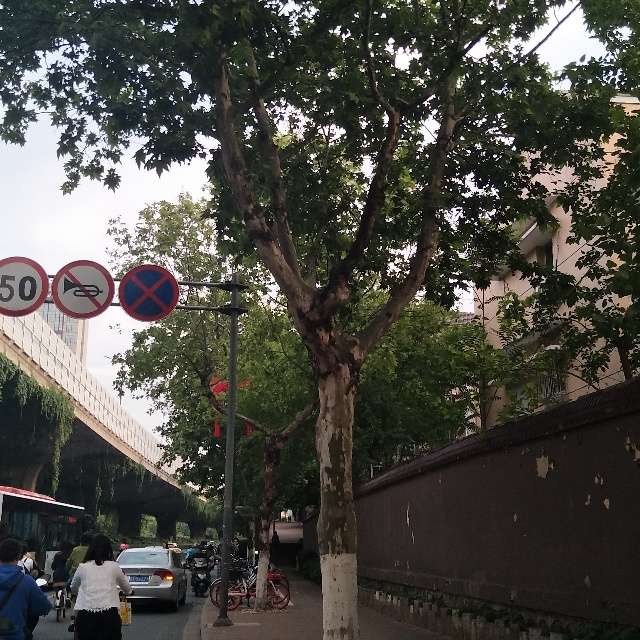nohonk: (51, 260, 115, 320)
stop: (119, 265, 179, 322)
